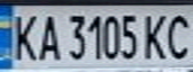0: (103, 11, 124, 61)
1: (84, 11, 106, 61)
3: (63, 11, 87, 61)
5: (118, 10, 142, 61)
A: (33, 10, 63, 62)
C: (160, 9, 193, 61)
K: (6, 10, 42, 62), (139, 10, 172, 61)
